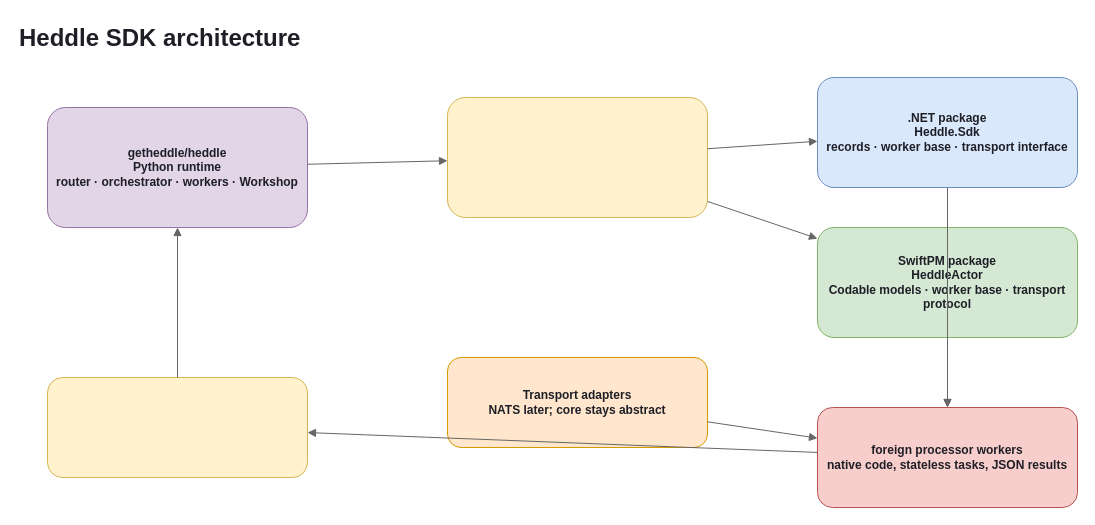
This 1095x525 diagram has some shape labels left out. Each missing label, with the centre of its shape:
"Heddle bus heddle.tasks.* · heddle.results.*" goes at (x=177, y=427).
"schemas/v1 canonical JSON envelopes TaskMessage · TaskResult · OrchestratorGoal" goes at (x=577, y=157).
